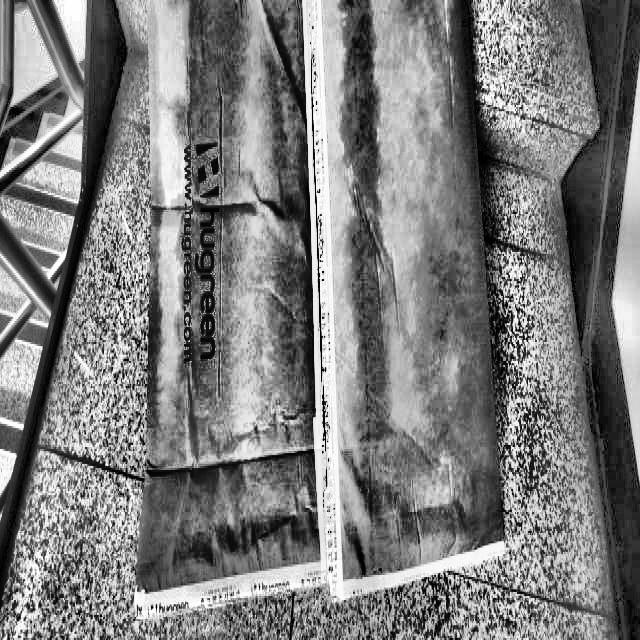box: (128, 0, 522, 629)
wet: (159, 0, 497, 595)
